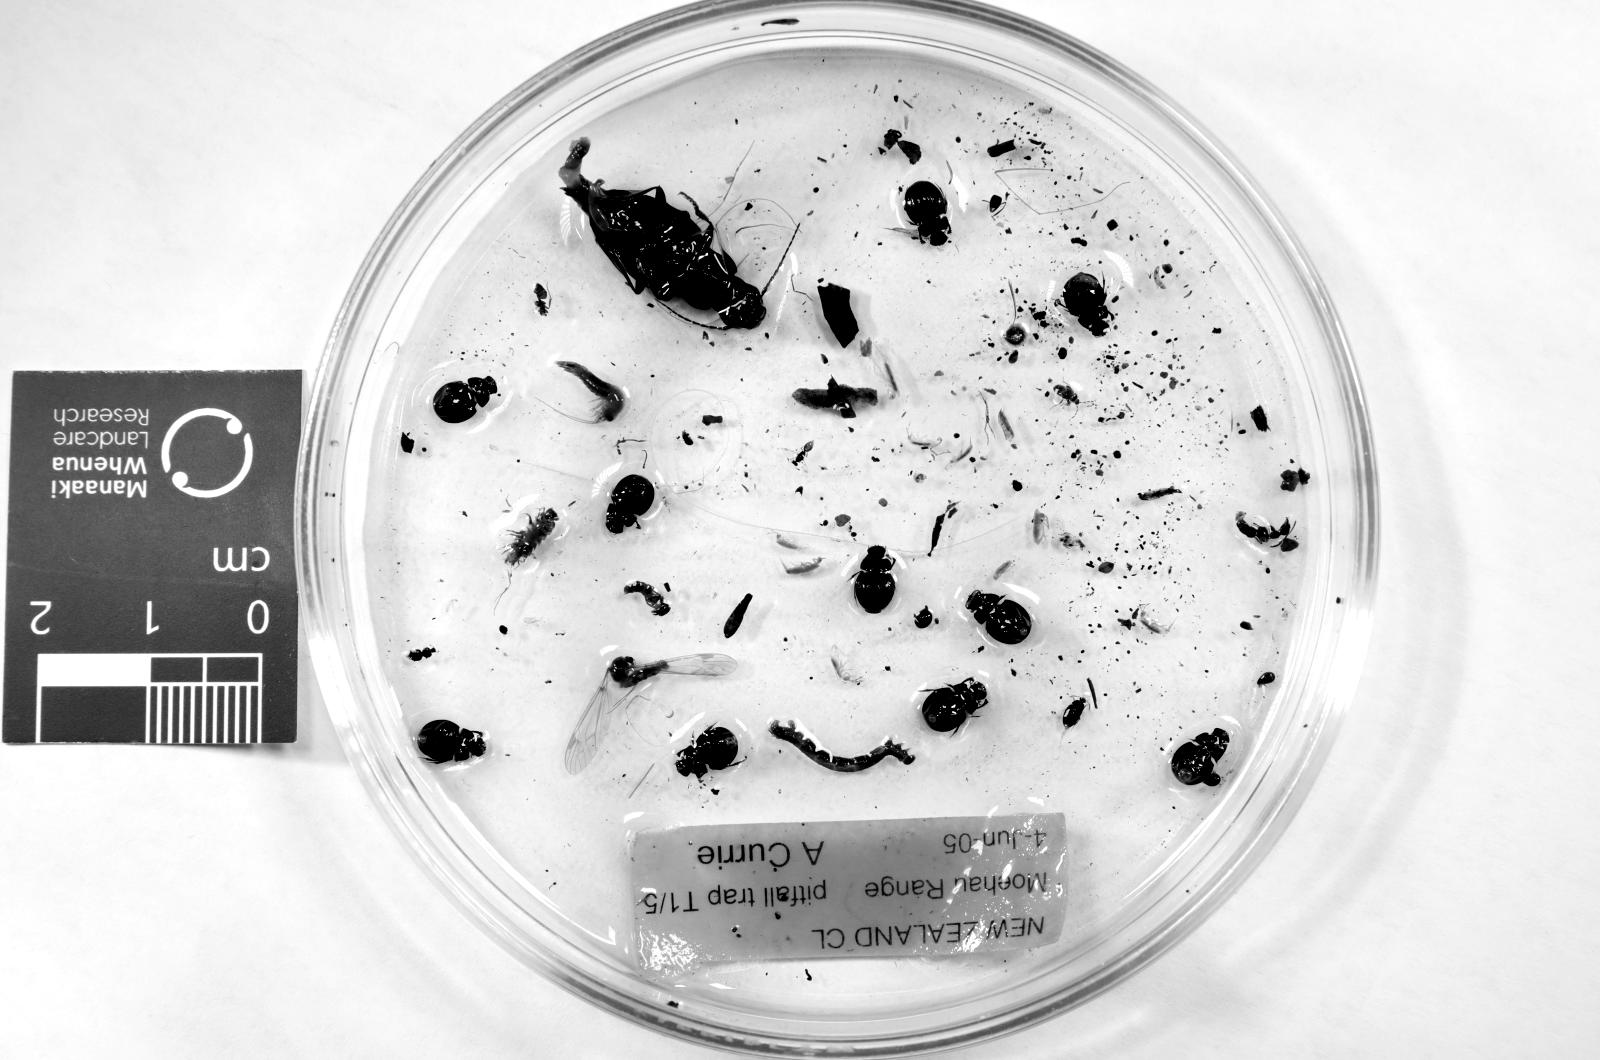archaeognatha: (556, 360, 626, 422)
carabidae: (559, 137, 765, 329)
coleoptera: (922, 677, 987, 733), (966, 590, 1031, 646), (675, 726, 738, 780), (1062, 273, 1113, 336), (1172, 730, 1229, 786), (853, 547, 896, 615), (903, 180, 950, 245), (607, 476, 656, 535), (419, 720, 485, 764), (434, 376, 497, 422), (1062, 699, 1088, 730)
coleoptera_larva: (769, 720, 915, 774)
collembola: (881, 354, 900, 397), (1141, 608, 1172, 634), (784, 558, 822, 575), (1031, 509, 1047, 543), (909, 435, 940, 451), (950, 444, 972, 463), (775, 537, 807, 550), (993, 562, 1012, 581)
diptera: (565, 655, 738, 774), (793, 441, 812, 466)
formicidae: (1235, 512, 1297, 550)
isopoda: (506, 509, 559, 565), (831, 646, 860, 684)
